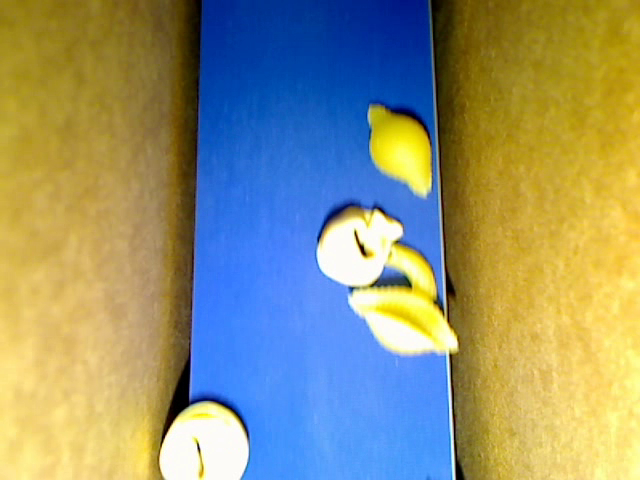elbow: (384, 242, 437, 302)
shell: (347, 287, 459, 358), (366, 102, 432, 200)
tortellini: (316, 205, 402, 288), (158, 401, 249, 479)
